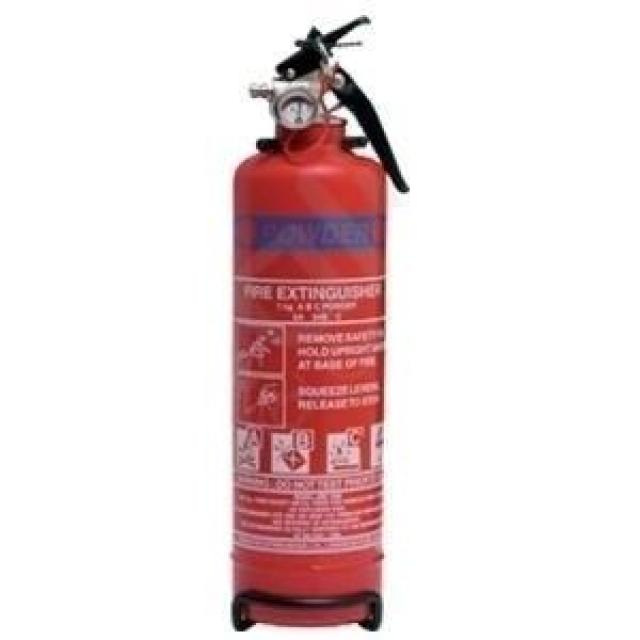fire_extinguisher: (213, 7, 416, 637)
